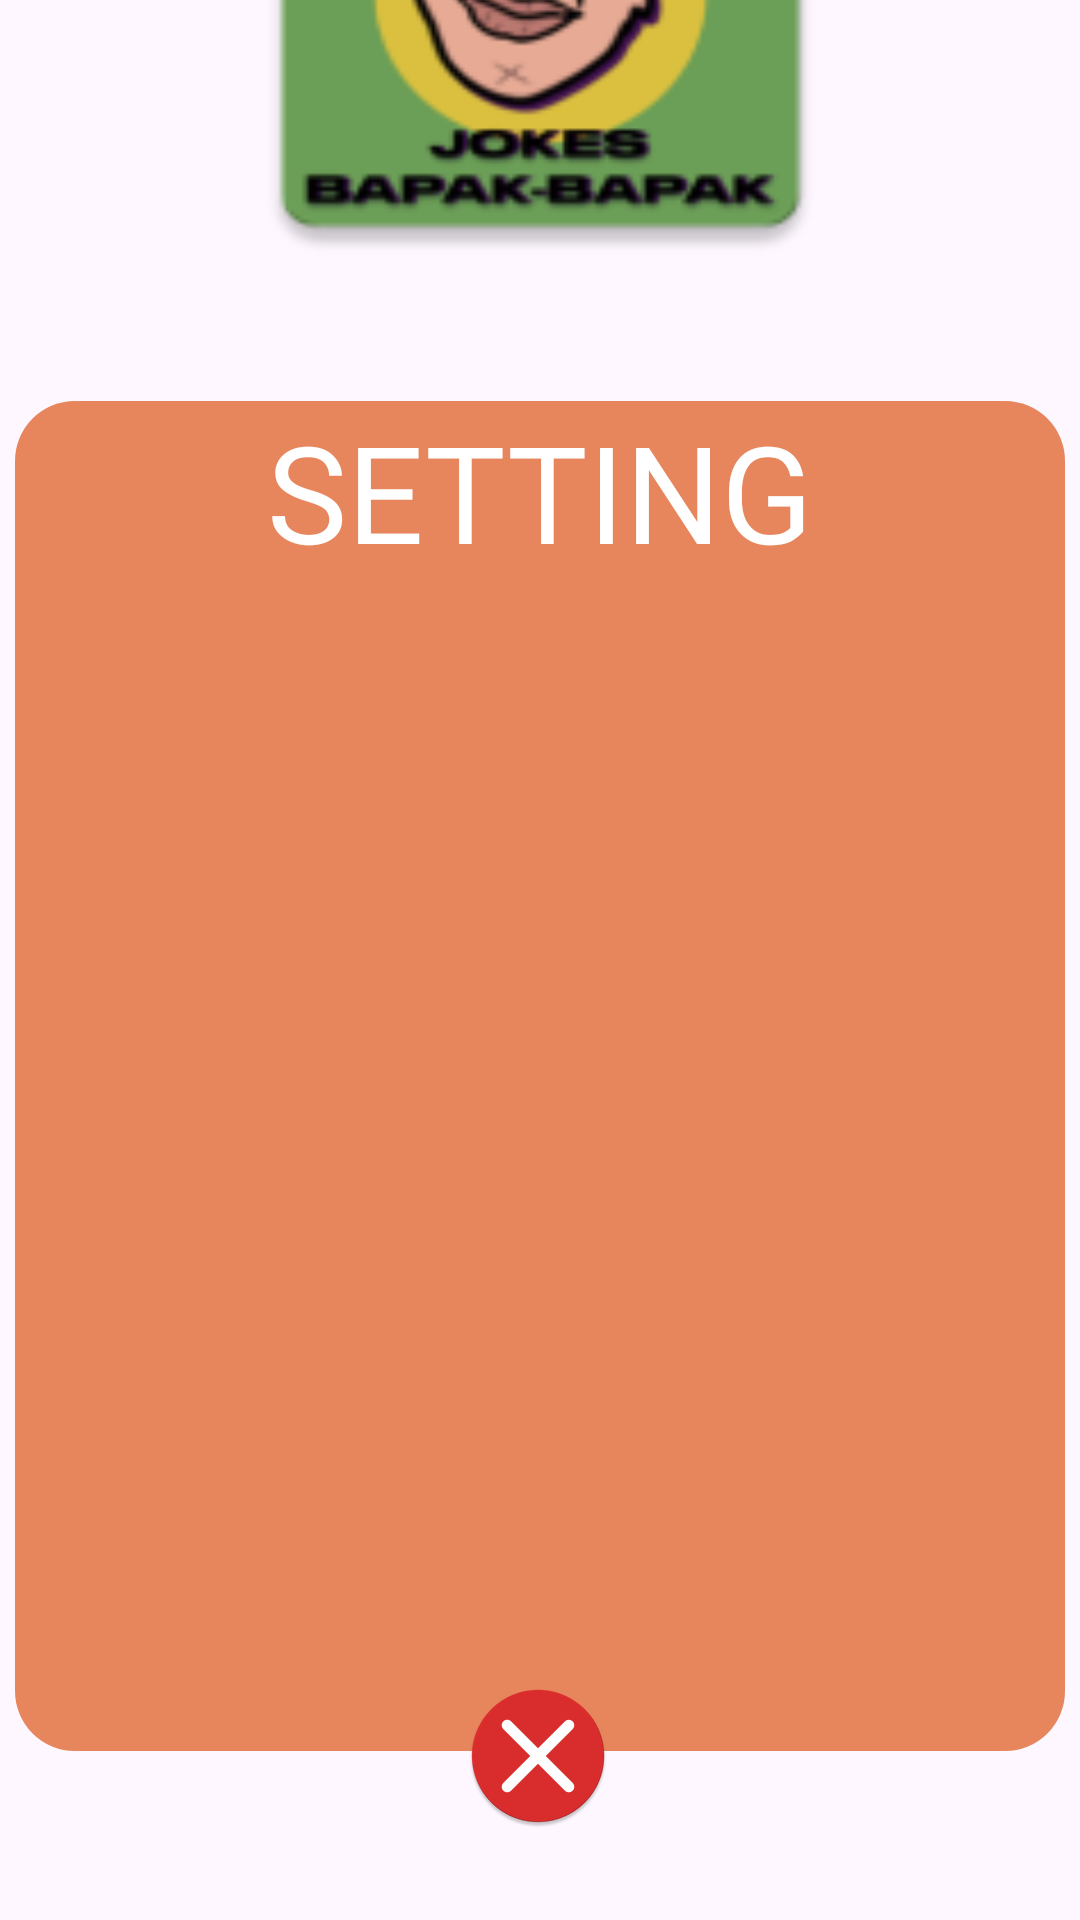

Named icons in this screenshot (1080 × 1920) and their centers, point (x, y):
close: point (538, 1756)
